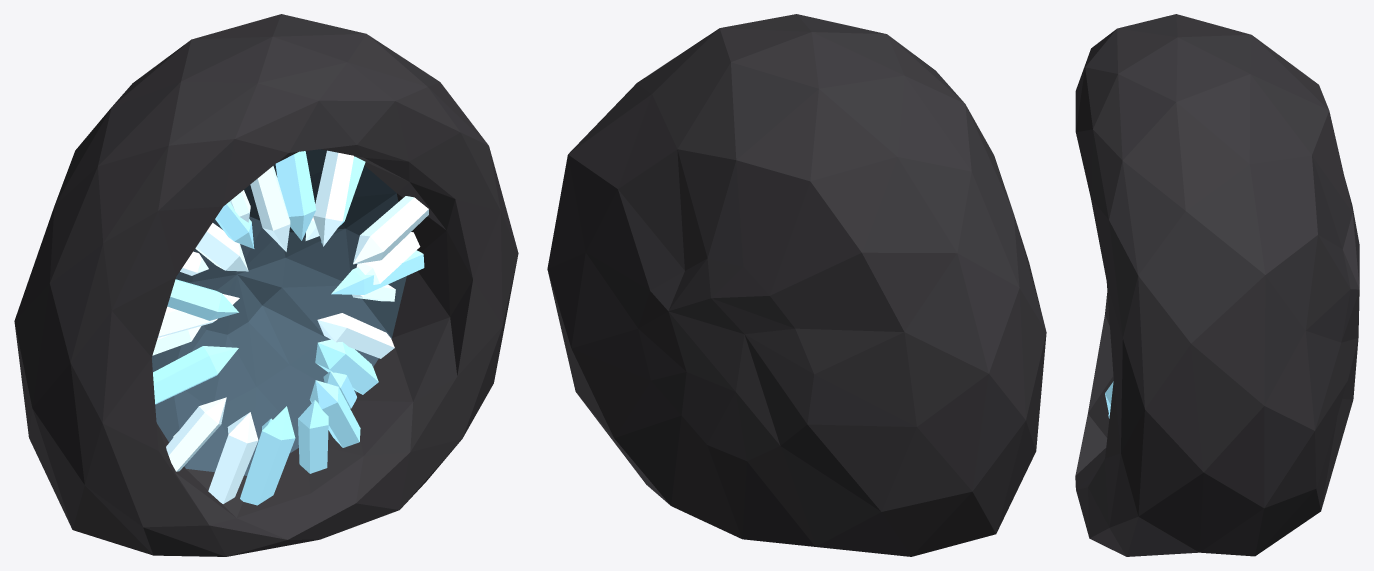
File: geode-boulder-e8091d.glb
3 views of the same model, side by side, from view 1: azimuth 30°, elevation 25°; view 2: azimuth 150°, elevation 25°; view 3: azimuth 270°, elevation 25° (orthographic).
Parts seen in each view (by area): view 1: shell, crystals; view 2: shell; view 3: shell.
Part boxes in pixels (left/top/right/bottom): shell: left=14, top=14, right=518, bottom=556; crystals: left=152, top=150, right=428, bottom=505; shell: left=547, top=14, right=1046, bottom=556; shell: left=1075, top=14, right=1359, bottom=556.
Bounding box in the file's own units: 1.61 × 1.6 × 0.8678.
